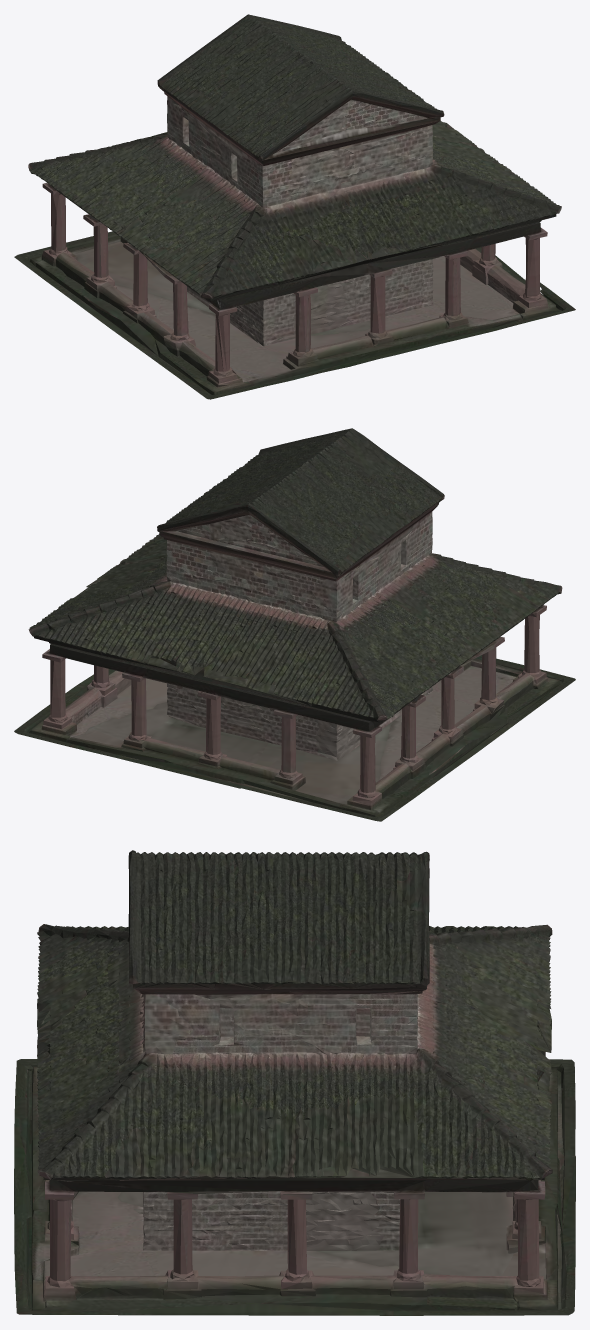
File: temple_tawern_a.meshy.reduced.glb
3 renders of one model, top to bottom at view 1: azimuth 30°, elevation 25°; view 2: azimuth 150°, elevation 25°; view 3: azimuth 270°, elevation 25°, orthographic. The views are drawn at different scales.
Bounding box in the file's own units: 1.9 × 1.18 × 1.76.
Materials: 1 (1 with a texture image).
